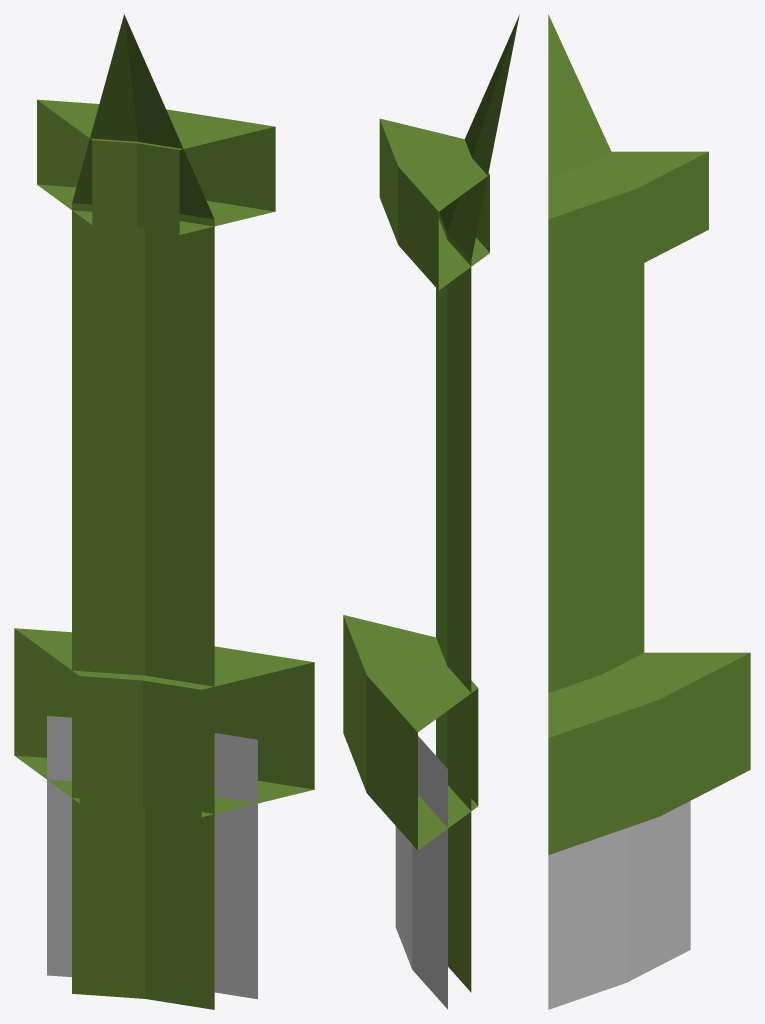
The model's file is cell_63.obj.
3 views of the same model, side by side, from view 1: azimuth 30°, elevation 25°; view 2: azimuth 150°, elevation 25°; view 3: azimuth 270°, elevation 25° (orthographic). The views are drawn at different scales.
Size of the model in its own units: 0.0528 by 0.2696 by 0.0528.
